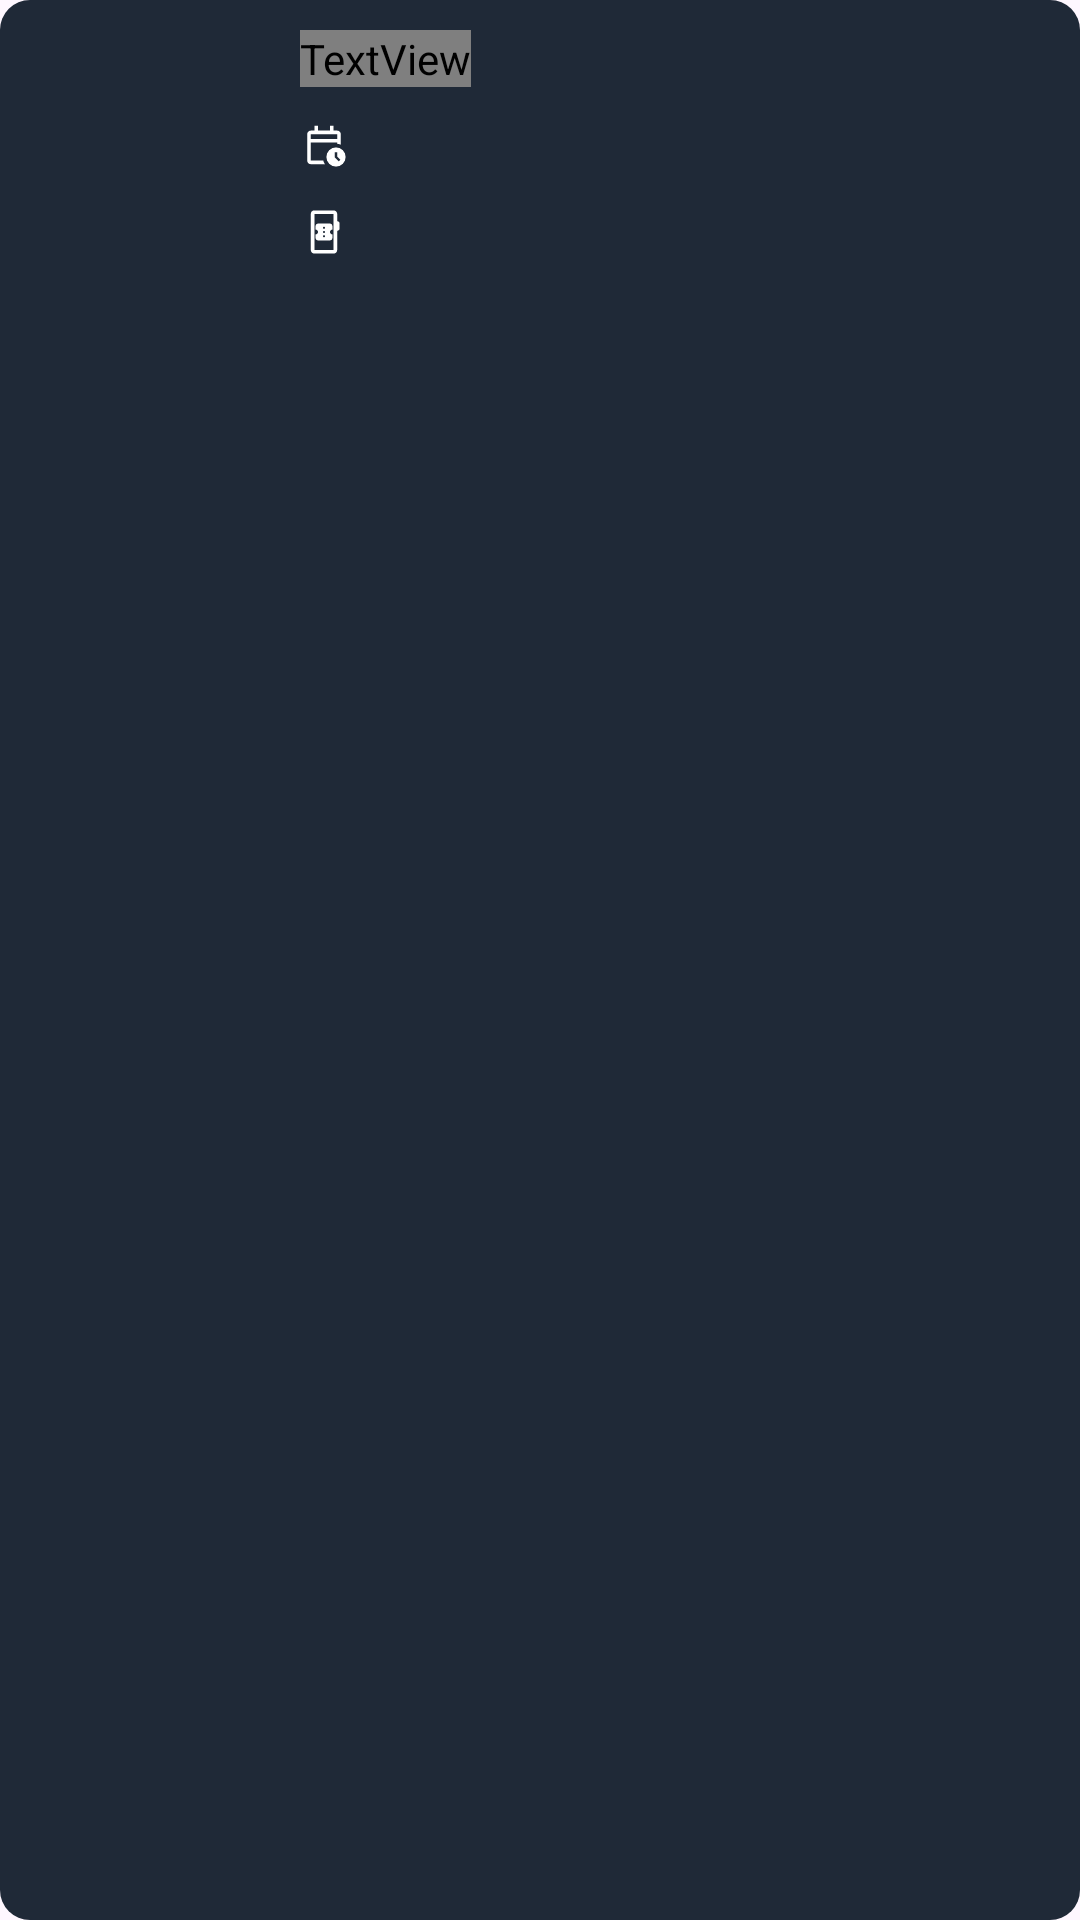

Locate icon controls on the screen. Image size 1080x1920, boxes as (x1, y1, x2, y2).
time: (307, 125, 346, 167)
